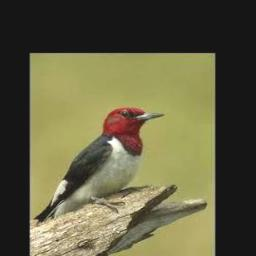Woodpecker: (34, 107, 165, 223)
